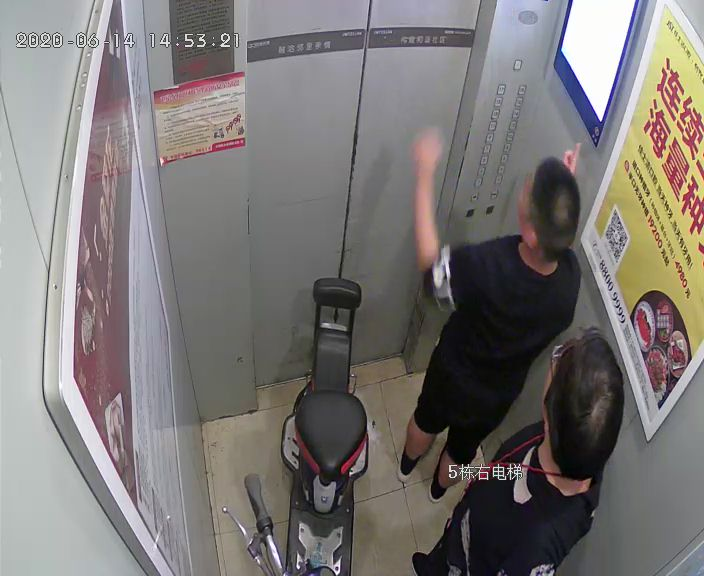Electric-bicycle: (221, 276, 368, 574)
